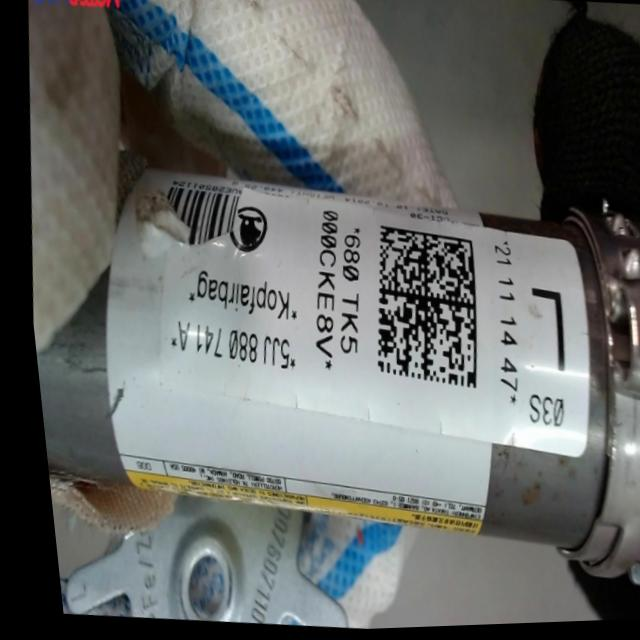datamatrix: (355, 224, 483, 396)
